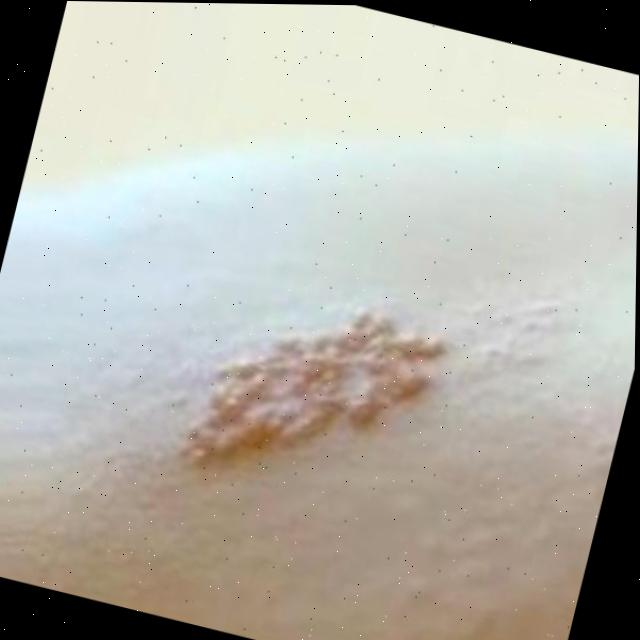Shingles: (192, 286, 446, 501)
